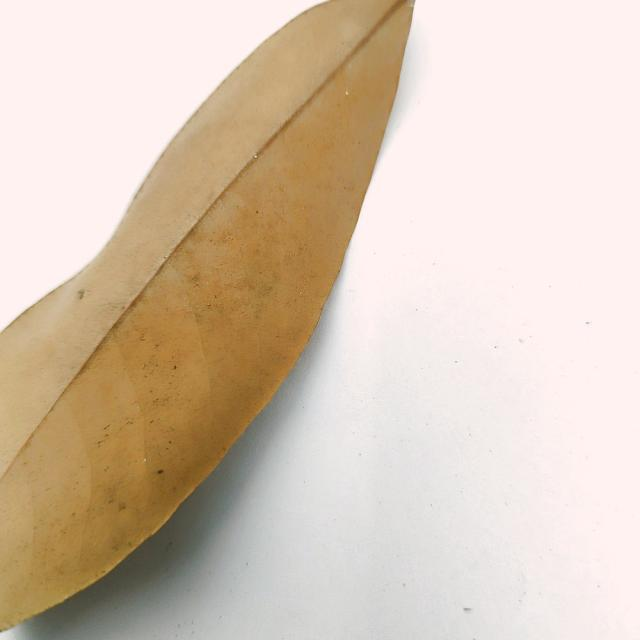Dry_Leaf-Lychee: (0, 0, 417, 635)
